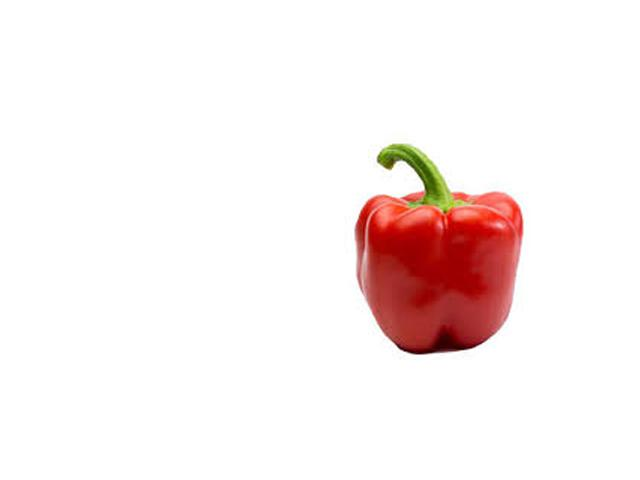bell_pepper: (342, 137, 533, 361)
